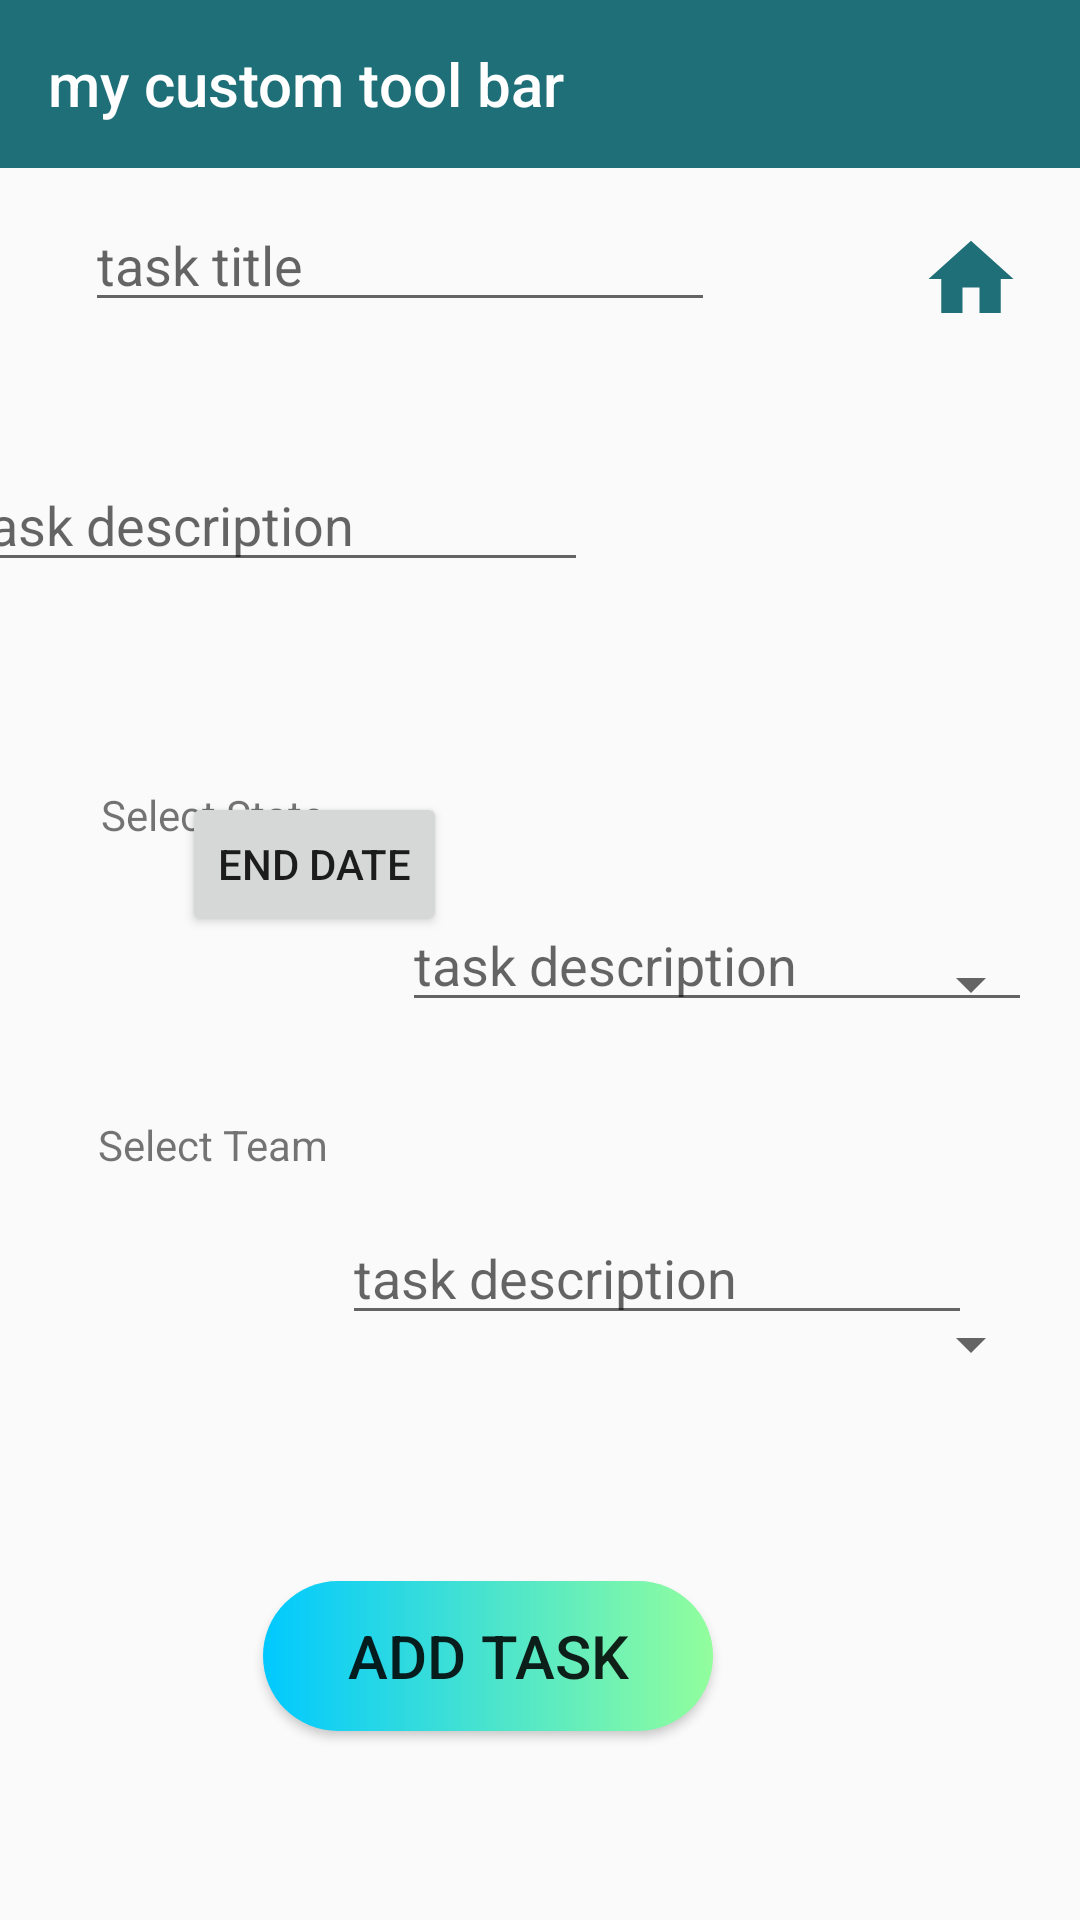

Where icons sit on this 1080*1920 app screen, as (x1, y1, x2, y2):
home: (929, 241, 1013, 313)
